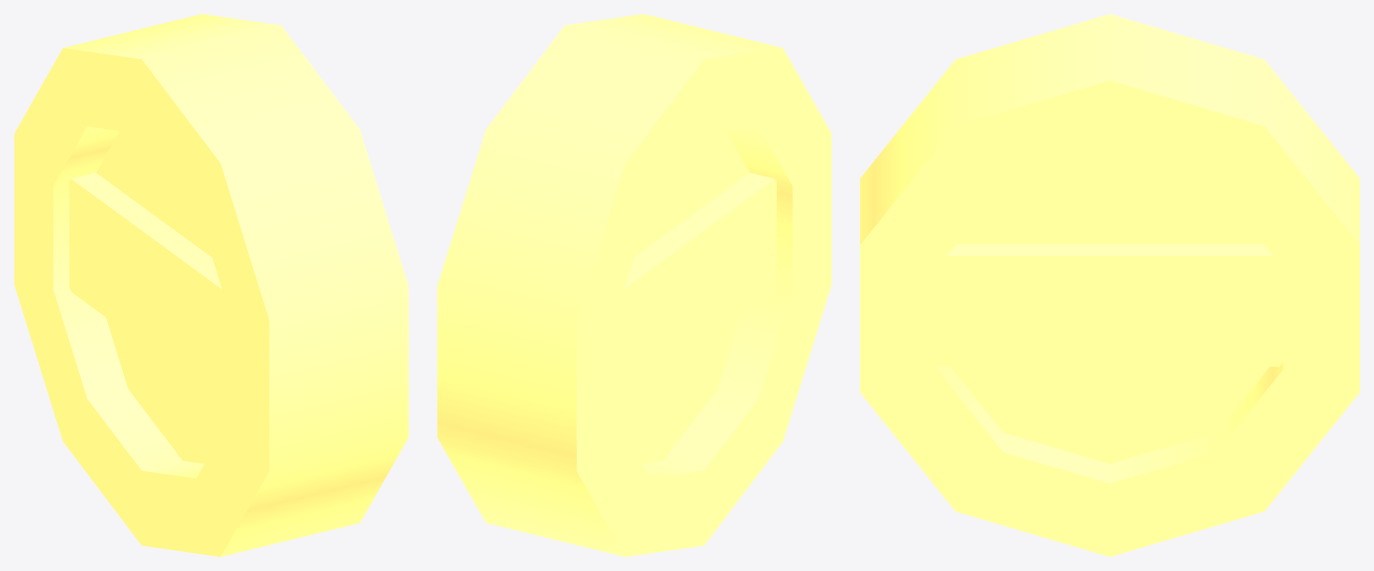
File: Coins.fbx
The picture shows the model from 3 angles, left to right: view 1: azimuth 30°, elevation 25°; view 2: azimuth 150°, elevation 25°; view 3: azimuth 270°, elevation 25°; orthographic projection. The views are drawn at different scales.
Visible parts, largest first — view 1: Cylinder_1, Cube; view 2: Cylinder_1, Cube; view 3: Cylinder_1, Cube.
Part boxes in pixels (bbox=[...]): Cylinder_1: bbox=[14, 14, 408, 556]; Cube: bbox=[69, 173, 229, 407]; Cylinder_1: bbox=[437, 14, 831, 556]; Cube: bbox=[616, 173, 776, 407]; Cylinder_1: bbox=[860, 14, 1359, 556]; Cube: bbox=[937, 244, 1282, 366].
Bounding box in the file's own units: 30 × 100 × 95.11.
